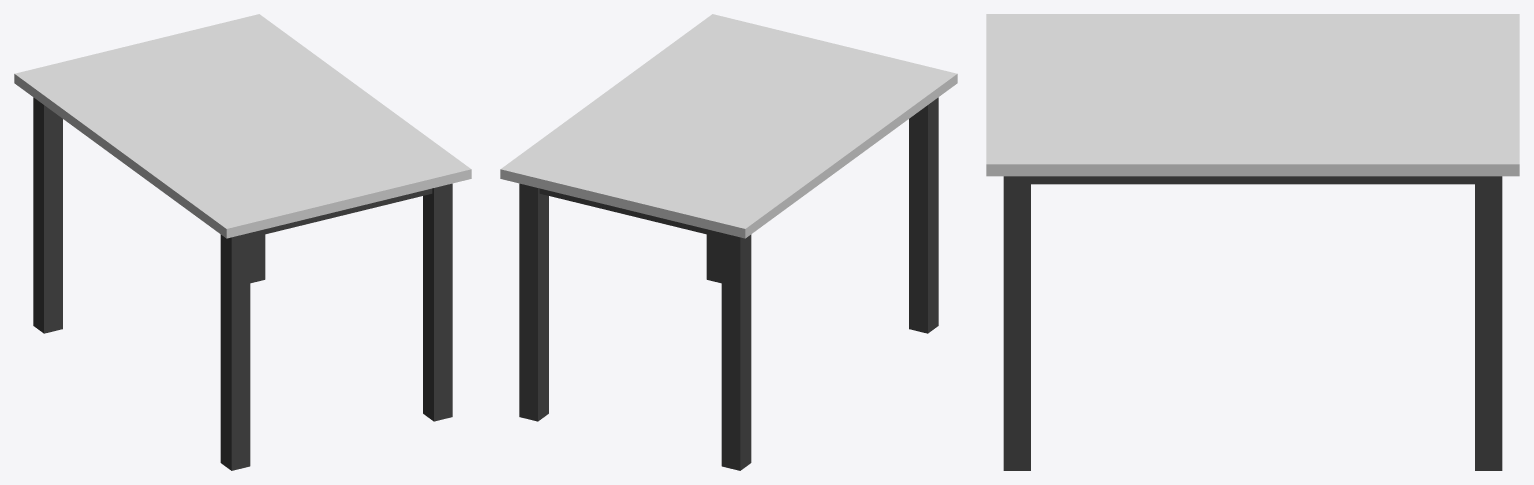
Rendered from Table_02_C2.fbx.
3 views of the same model, side by side, from view 1: azimuth 30°, elevation 25°; view 2: azimuth 150°, elevation 25°; view 3: azimuth 270°, elevation 25° (orthographic). The views are drawn at different scales.
Parts seen in each view (by area): view 1: Table_02_C2; view 2: Table_02_C2; view 3: Table_02_C2.
Part boxes in pixels (bbox=[...]): Table_02_C2: bbox=[14, 14, 471, 470]; Table_02_C2: bbox=[500, 14, 957, 470]; Table_02_C2: bbox=[986, 14, 1519, 470].
Bounding box in the file's own units: 80 × 78 × 120.
